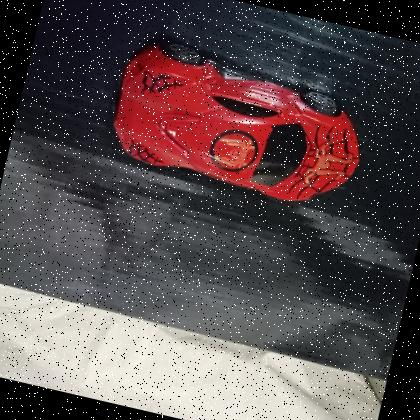Car: (94, 26, 379, 222)
